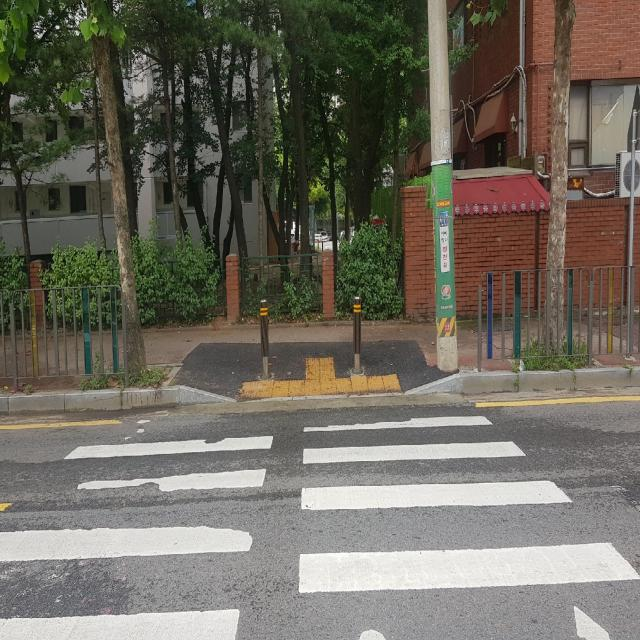횡단보도: (0, 414, 640, 640)
